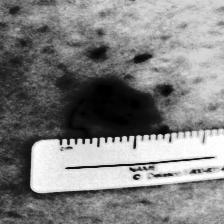Benign Marking or Mole: (70, 79, 158, 130)
